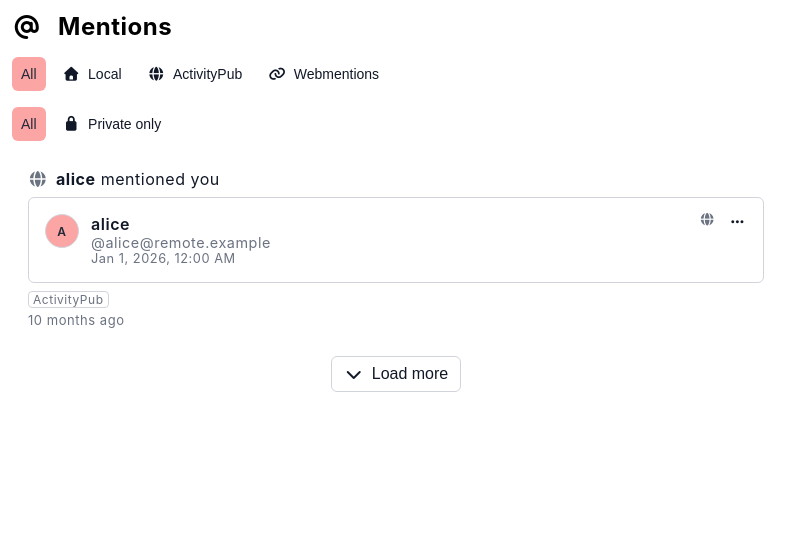
Scenario: MentionsView › loads more pages
Click the button "Load more".
click(396, 374)  # box [331, 356, 461, 392]
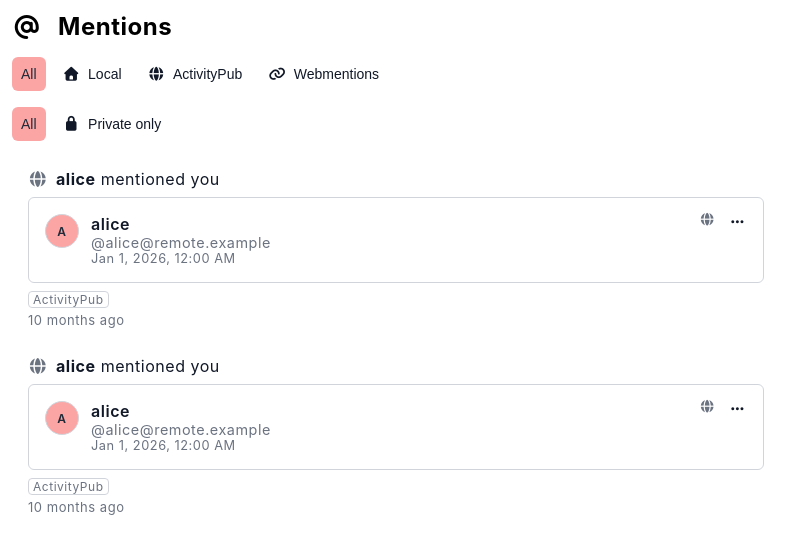
Check: the number of list items with class "mentions-view__row" is 2, box [12, 157, 780, 340]; [12, 344, 780, 527]
